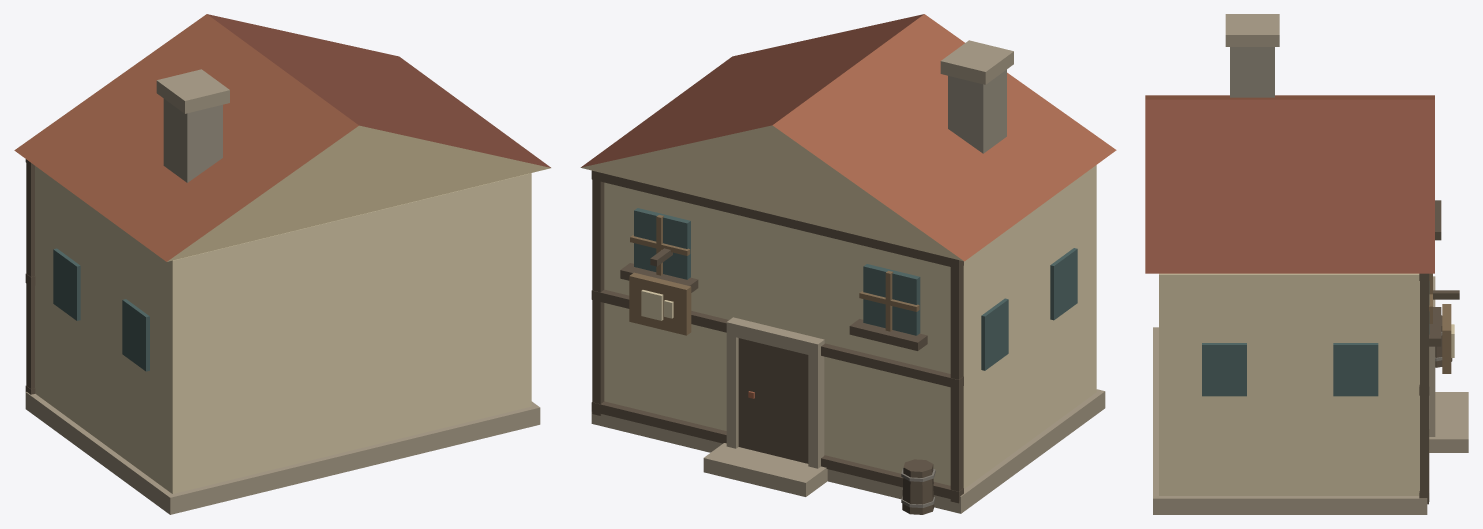
File: Town_Tavern.fbx
3 views of the same model, side by side, from view 1: azimuth 30°, elevation 25°; view 2: azimuth 150°, elevation 25°; view 3: azimuth 270°, elevation 25° (orthographic). The views are drawn at different scales.
Visible parts, largest first — view 1: Town_Tavern; view 2: Town_Tavern; view 3: Town_Tavern.
Part boxes in pixels (left/top/right/bottom): Town_Tavern: left=14, top=14, right=550, bottom=514; Town_Tavern: left=580, top=14, right=1116, bottom=514; Town_Tavern: left=1145, top=14, right=1468, bottom=514.
Size of the model in its own units: 5.63 by 5.21 by 4.31.
